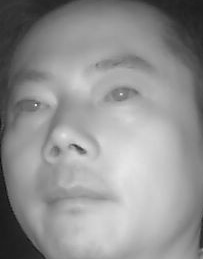eye: (101, 81, 146, 112), (11, 91, 53, 121)
mouth: (40, 172, 114, 219)
